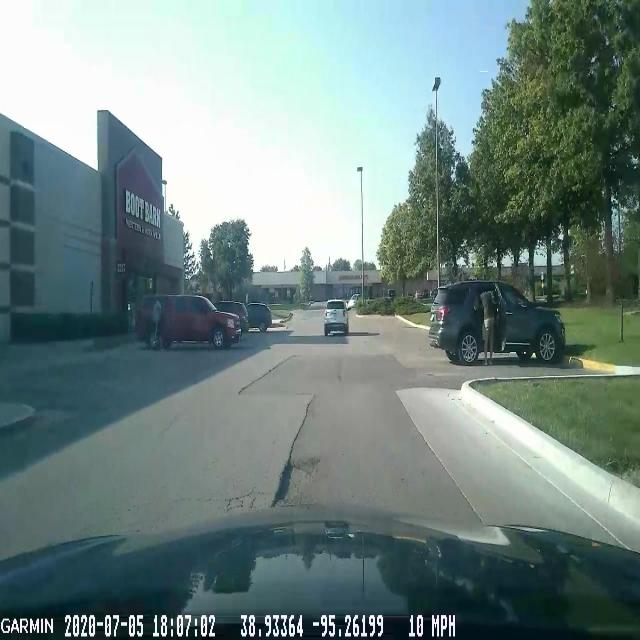Pothole: (268, 454, 298, 508)
